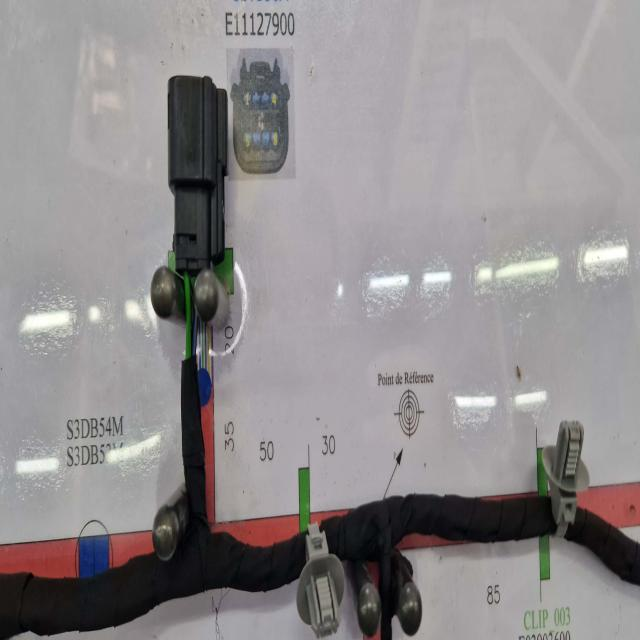Clip: (542, 417, 592, 539), (297, 524, 347, 638)
Connector: (166, 72, 228, 281)
Gape: (177, 251, 203, 366)
MHEV_N11_Cable: (0, 360, 305, 639), (318, 499, 566, 640), (572, 509, 640, 585), (598, 513, 640, 573)
